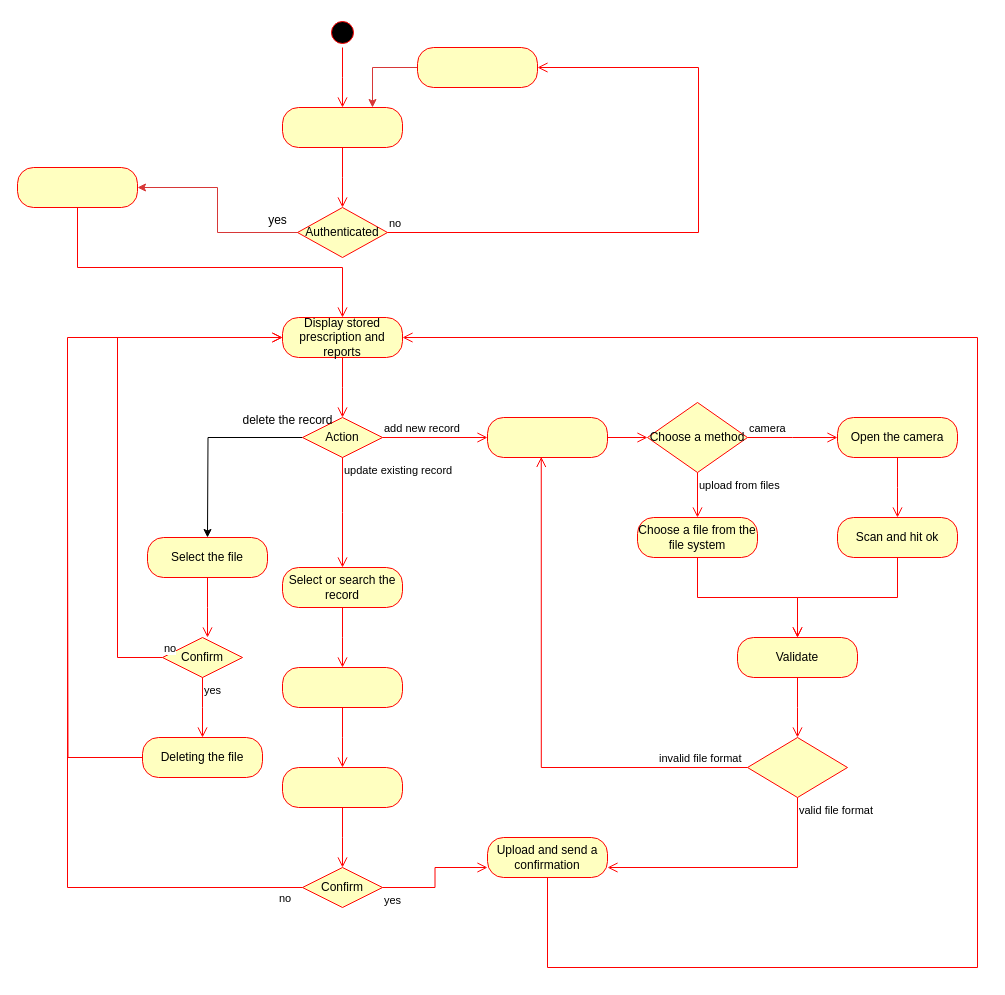
The diagram is 1005 pixels wide and 995 high, and some of its shapes have lost their labels. Here are the shapes that lost their labels. From the top down, the centre of each, then its label:
At pixel 477 67: "Login".
At pixel 342 127: "Access the prescription and reports section".
At pixel 77 187: "Access family member".
At pixel 547 437: "Prompts a scanning interface".
At pixel 342 687: "Prompt for updates".
At pixel 342 787: "Enter the updated values and hit update".
At pixel 797 767: "file format check".
